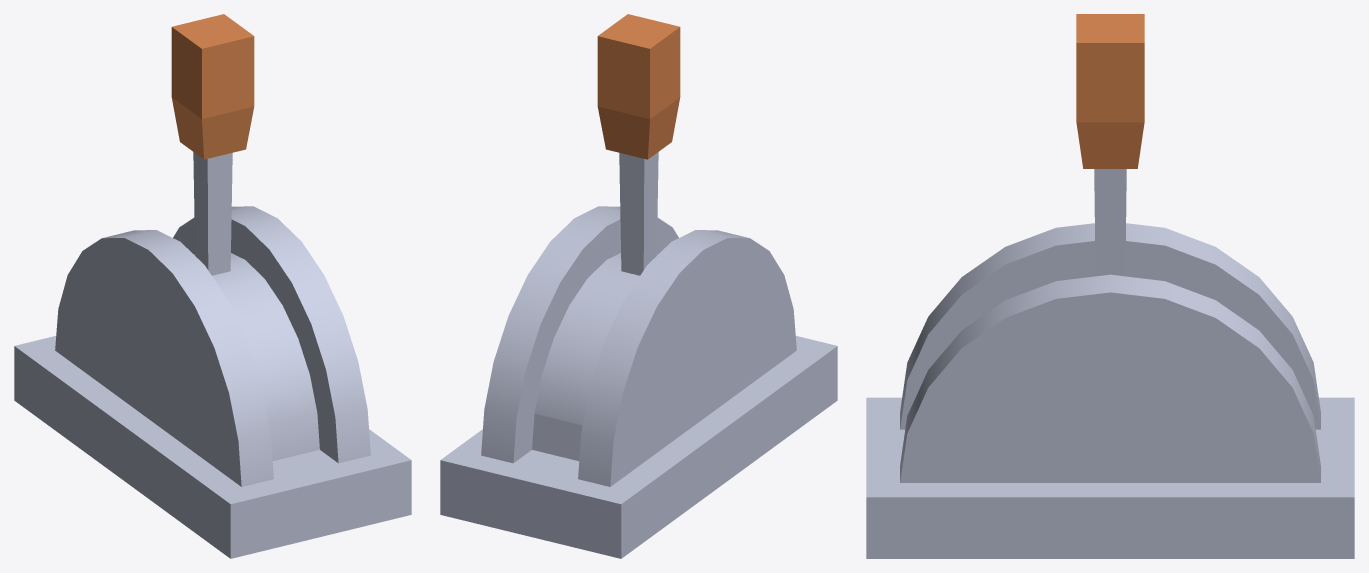
The model's file is d_kenney_levier.glb.
The picture shows the model from 3 angles, left to right: view 1: azimuth 30°, elevation 25°; view 2: azimuth 150°, elevation 25°; view 3: azimuth 270°, elevation 25°; orthographic projection. The views are drawn at different scales.
Parts seen in each view (by area): view 1: d_kenney_levier; view 2: d_kenney_levier; view 3: d_kenney_levier.
Boxes of the visible parts, x1,y1,x2,y2 form: d_kenney_levier: (14, 14, 411, 558); d_kenney_levier: (440, 14, 837, 558); d_kenney_levier: (866, 14, 1354, 558).
Bounding box in the file's own units: 0.28 × 0.6303 × 0.58.
1 material, 1 textured.
